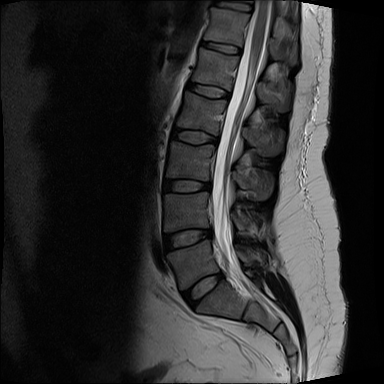Lumbar Disc Bulge (LDB): (159, 222, 215, 255)
Normal IVD: (176, 265, 228, 315), (154, 173, 215, 198), (171, 79, 234, 102), (168, 123, 221, 149), (197, 37, 243, 58)
